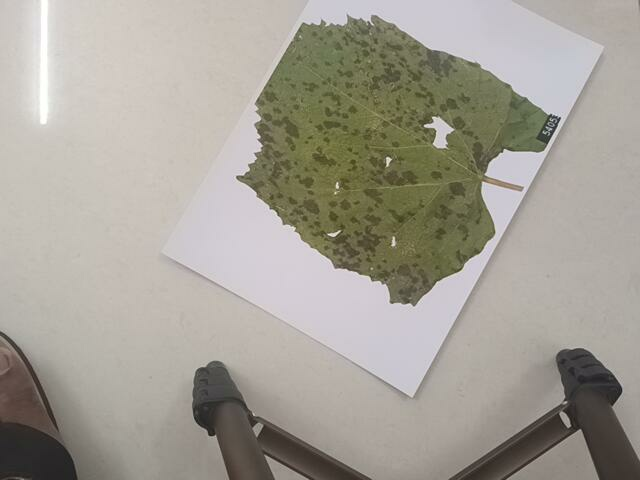Grape_Blight_Leaf: (238, 8, 563, 302)
